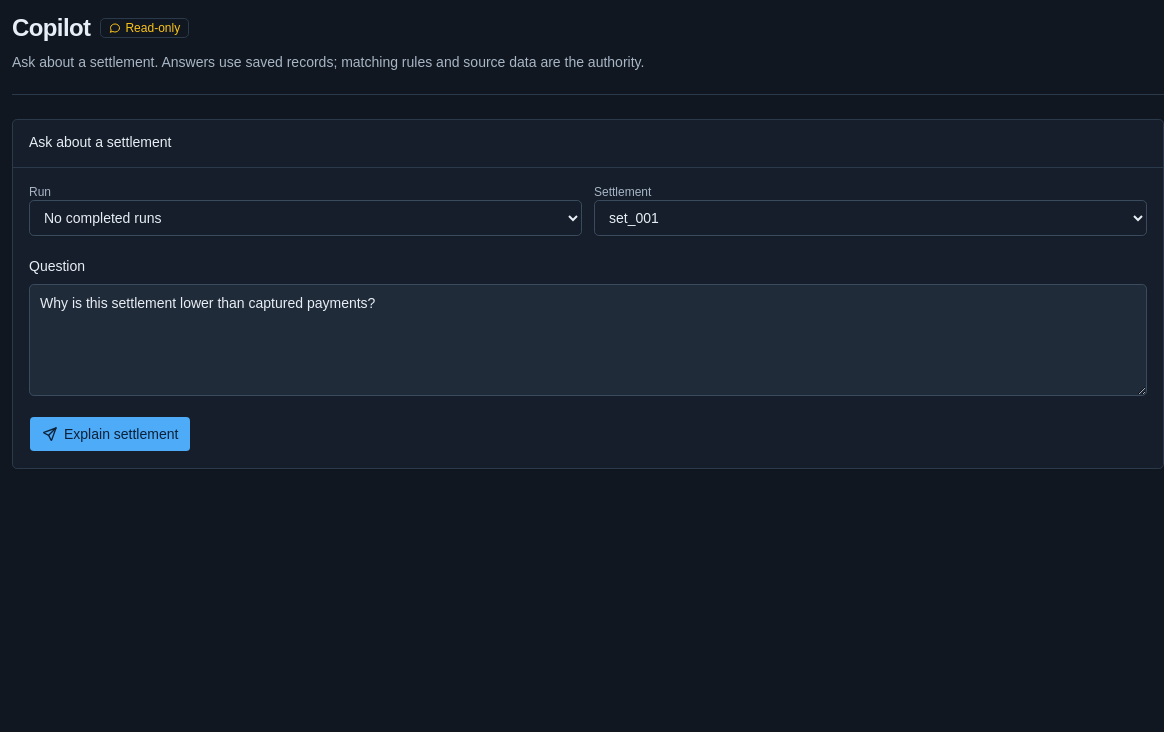
Test: Copilot page › renders a safe fallback error instead of hiding a Copilot failure
Step 1. Click the button "Explain settlement" → (110, 434), box [29,416,191,452]
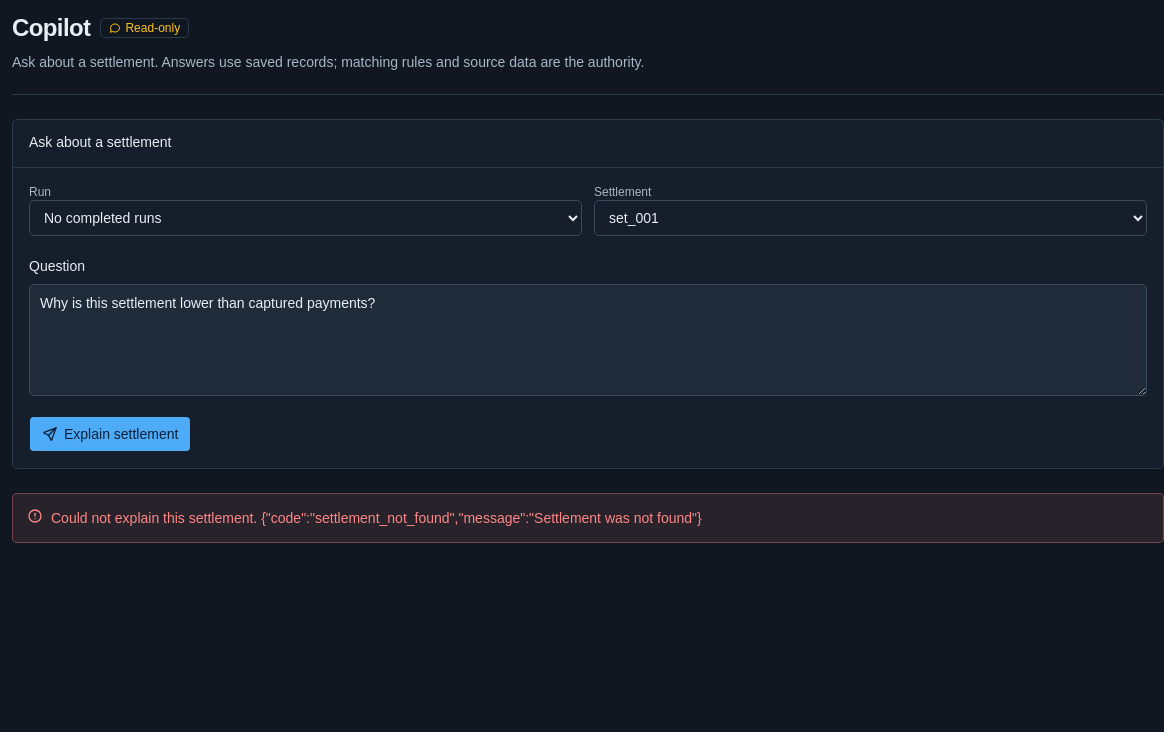
Check: the message shows "Could not explain", box [51,510,261,526]
Check: the message shows "Settlement was not found", box [261,510,702,526]
